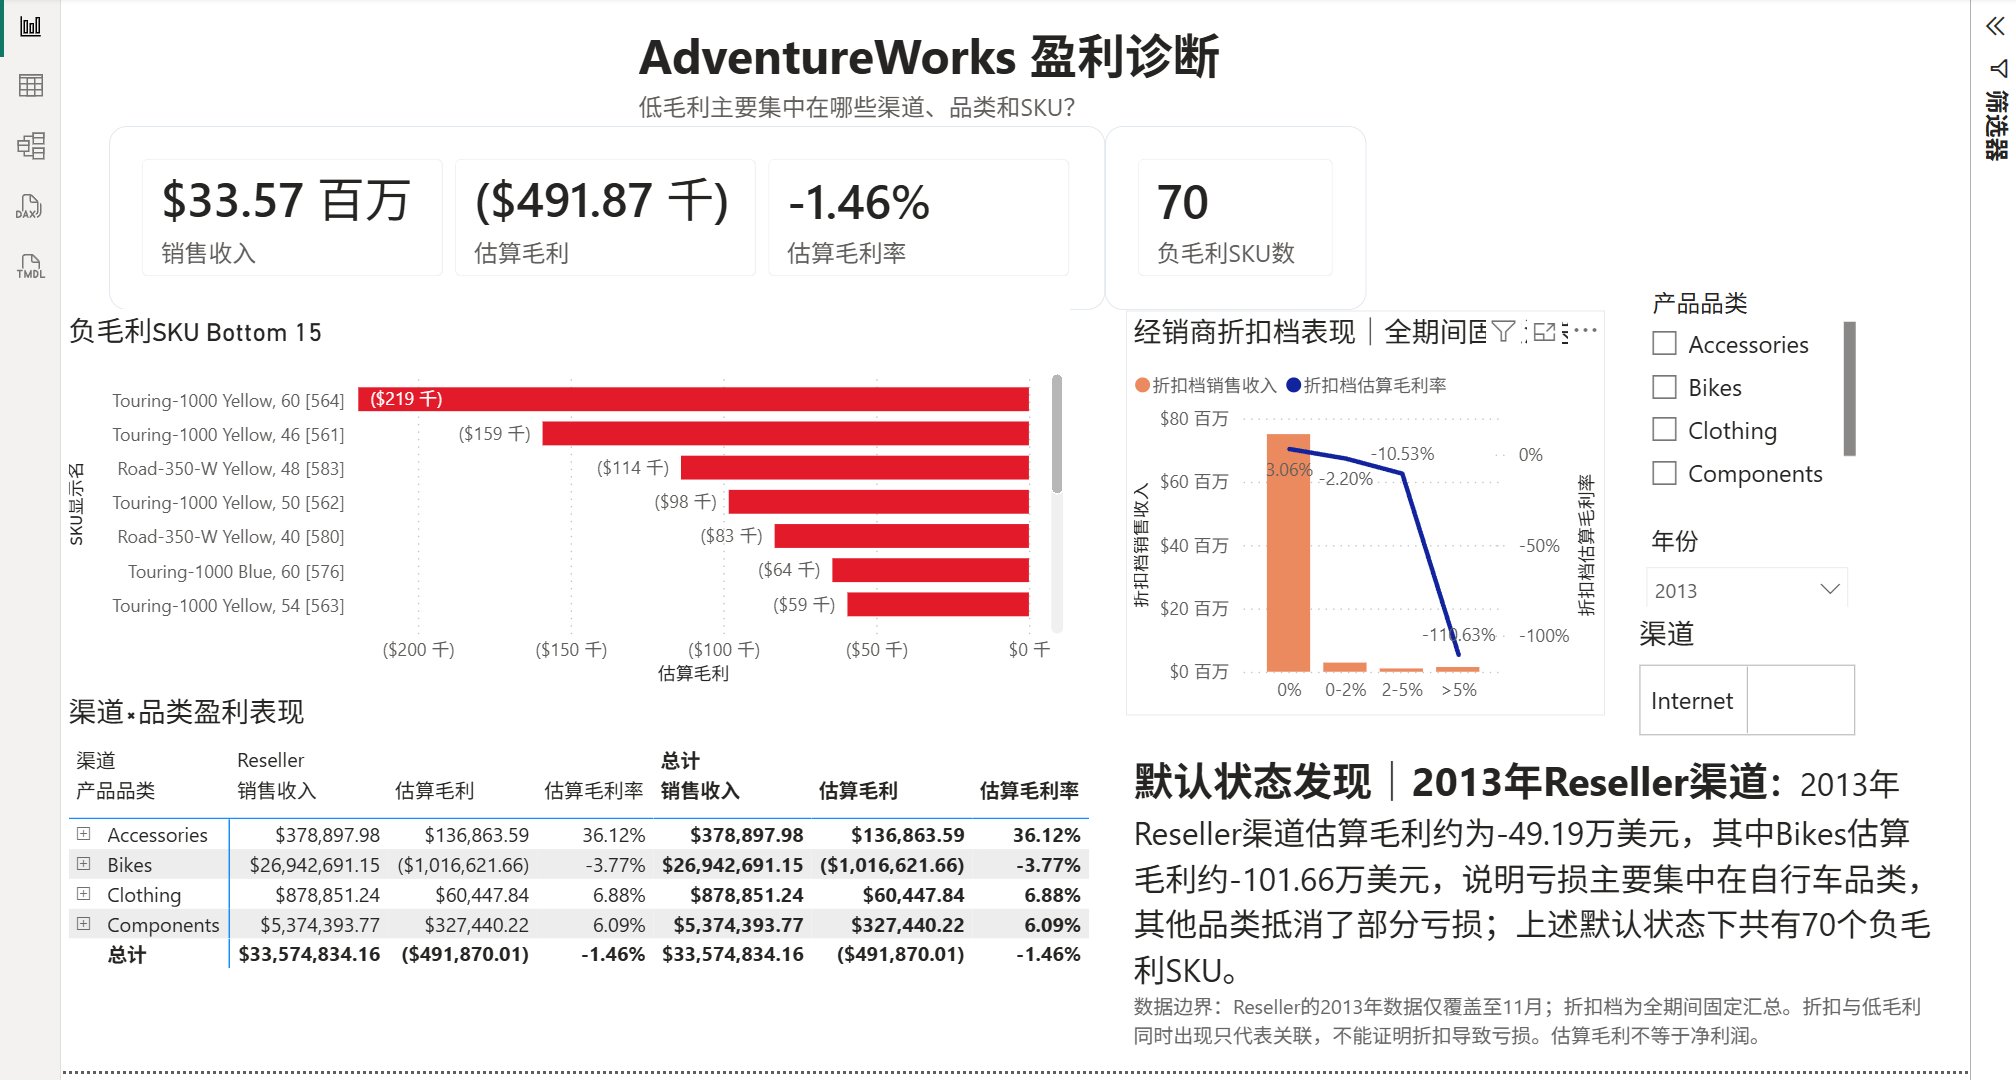

The dashboard page shown, as its layout file describes it:
{"tool":"powerbi","page":{"name":"盈利诊断","canvas":[1280,720],"ordinal":2},"visuals":[{"type":"textbox","box":[382.2,8.9,461.1,85.6],"z":0},{"type":"cardVisual","fields":{"Data":["FactSales.销售收入","FactSales.估算毛利","FactSales.估算毛利率"]},"box":[32.2,86.7,667.8,123.3],"z":1000},{"type":"slicer","fields":{"Values":["DimProduct.category"]},"box":[1054.4,186.7,154.4,150],"z":2000},{"type":"slicer","fields":{"Values":["DimDate.calendar_year"]},"box":[1053.3,346.7,155.6,62.2],"z":3000},{"type":"pivotTable","title":"渠道×品类盈利表现","fields":{"Rows":["DimProduct.category","DimProduct.subcategory"],"Columns":["FactSales.channel"],"Values":["FactSales.销售收入","FactSales.估算毛利","FactSales.估算毛利率"]},"box":[0,464.4,700,202.2],"z":4000},{"type":"cardVisual","fields":{"Data":["FactSales.负毛利SKU数"]},"box":[700,86.7,175.6,123.3],"z":5000},{"type":"clusteredBarChart","title":"负毛利SKU Bottom 15","fields":{"Category":["DimProduct.SKU显示名"],"Y":["FactSales.估算毛利"]},"box":[0,208.9,676.7,255.6],"z":6000},{"type":"lineClusteredColumnComboChart","title":"经销商折扣档表现｜全期间固定汇总","fields":{"Category":["ResellerDiscountBand.discount_band"],"Y":["ResellerDiscountBand.折扣档销售收入"],"Y2":["ResellerDiscountBand.折扣档估算毛利率"]},"box":[714.4,210,320,272.2],"z":7000},{"type":"textbox","box":[714.4,500,550,212.2],"z":8000},{"type":"advancedSlicerVisual","fields":{"Values":["FactSales.channel"]},"box":[1053.3,412.2,155,88],"z":9000}]}

Visuals, with their boxes on the page's 1280x720 design canvas (x1, y1, x2, y2). These are canvas units, not pixel positions in the 2016x1080 screenshot, which may show the page scaled, cropped or inside an application window:
textbox: 382,9,843,94
cardVisual - FactSales.销售收入 x FactSales.估算毛利: 32,87,700,210
slicer - DimProduct.category: 1054,187,1209,337
slicer - DimDate.calendar_year: 1053,347,1209,409
"渠道×品类盈利表现" pivotTable: 0,464,700,667
cardVisual - FactSales.负毛利SKU数: 700,87,876,210
"负毛利SKU Bottom 15" clusteredBarChart: 0,209,677,464
"经销商折扣档表现｜全期间固定汇总" lineClusteredColumnComboChart: 714,210,1034,482
textbox: 714,500,1264,712
advancedSlicerVisual - FactSales.channel: 1053,412,1208,500
